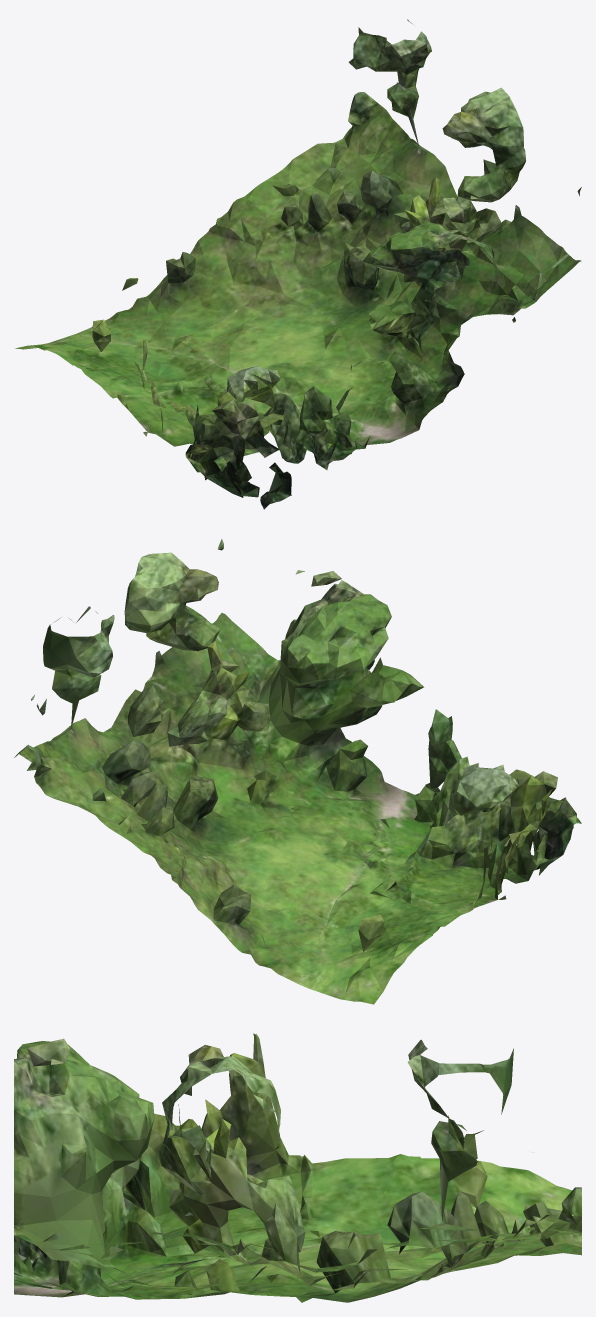
3 views of the same model, one above another, from view 1: azimuth 30°, elevation 25°; view 2: azimuth 150°, elevation 25°; view 3: azimuth 270°, elevation 25° (orthographic). The views are drawn at different scales.
Size of the model in its own units: 52.22 by 39.99 by 52.22.
5 materials, 5 textured.
